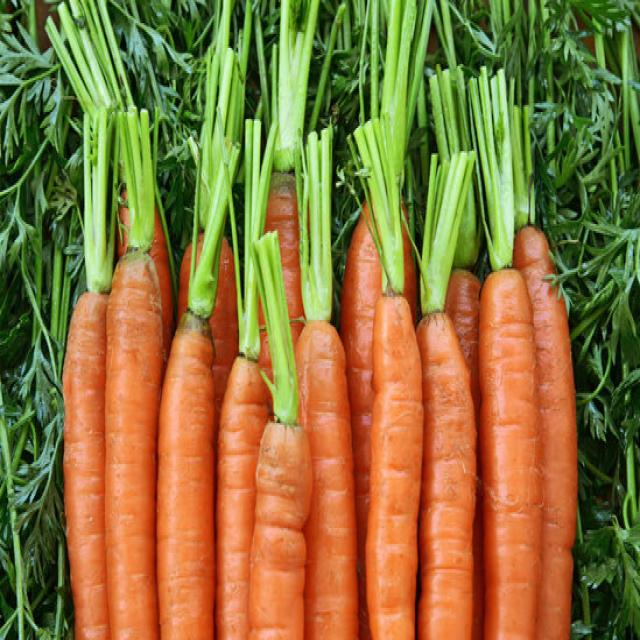Carrot: (156, 231, 238, 638), (214, 117, 270, 638), (512, 222, 578, 638), (340, 192, 418, 539), (248, 228, 312, 638), (104, 196, 163, 638), (478, 267, 542, 638), (294, 318, 359, 638), (415, 310, 477, 638), (365, 292, 423, 638), (340, 198, 382, 636), (60, 290, 108, 638), (443, 266, 480, 636), (262, 170, 306, 347), (444, 267, 480, 409)
